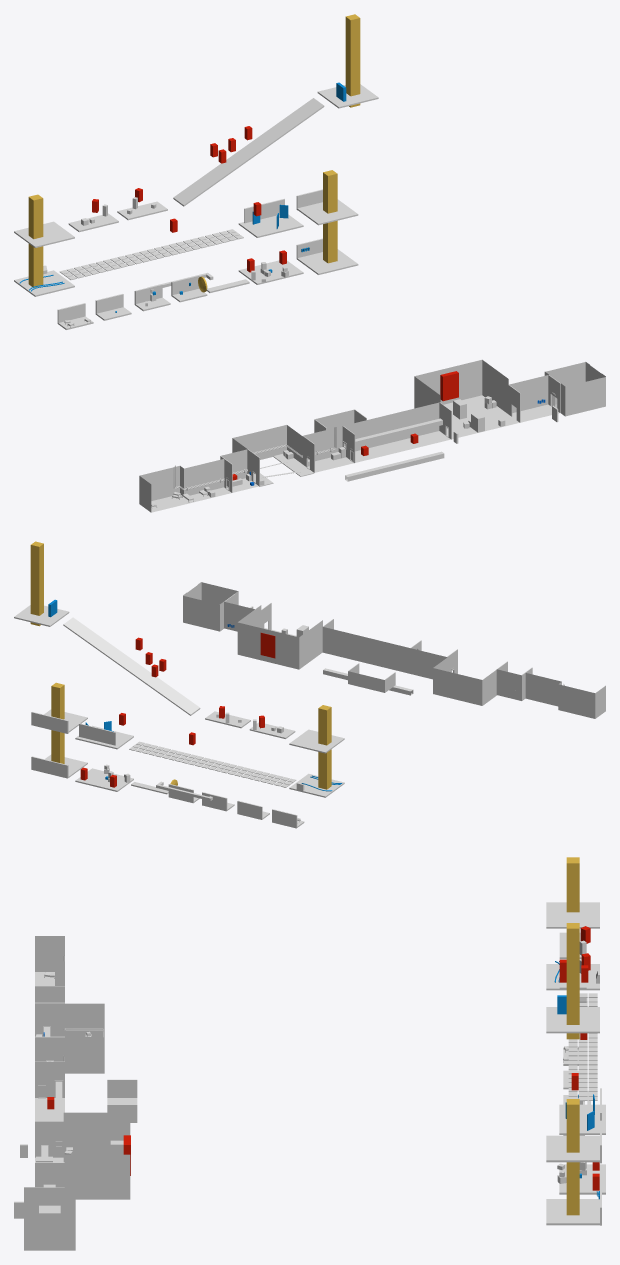
3 views of the same model, one above another, from view 1: azimuth 30°, elevation 25°; view 2: azimuth 150°, elevation 25°; view 3: azimuth 270°, elevation 25° (orthographic). The views are drawn at different scales.
Visible parts, largest first — view 1: Plane.003, Plane.008, Cube.068, Cube.142, Plane.005, Plane.002, Plane, Plane.009, Cube.055, Cube.071, Cube.031, Plane.001 (+13 smaller); view 2: Plane.003, Plane.008, Cube.068, Cube.142, Plane.005, Plane, Cube.055, Plane.002, Cube.071, Cube.031, Plane.001, Plane.007 (+11 smaller); view 3: Plane.008, Plane.003, Plane.005, Cube.142, Cube.071, Cube.031, Cube.032, Cube.030, Cube.056, Plane, Cube.070, Plane.007 (+10 smaller).
Part boxes in pixels (box(x1,y1,x2,y2)): Plane.003: box(302, 402, 451, 472); Plane.008: box(414, 359, 519, 439); Cube.068: box(173, 98, 324, 206); Cube.142: box(544, 362, 605, 416); Plane.005: box(232, 425, 314, 486); Plane.002: box(180, 456, 232, 502); Plane: box(139, 466, 191, 512); Plane.009: box(509, 375, 559, 422); Cube.055: box(28, 194, 43, 287); Cube.071: box(345, 14, 360, 107); Cube.031: box(323, 170, 337, 263); Plane.001: box(221, 449, 259, 492); Plane.003: box(322, 619, 457, 679); Plane.008: box(237, 605, 322, 669); Cube.068: box(63, 617, 200, 715); Cube.142: box(183, 582, 238, 631); Plane.005: box(433, 658, 496, 705); Plane: box(558, 684, 605, 718); Cube.055: box(318, 705, 331, 789); Plane.002: box(521, 667, 561, 706); Cube.071: box(30, 541, 43, 626); Cube.031: box(51, 682, 64, 763); Plane.001: box(496, 661, 521, 700); Plane.007: box(348, 663, 395, 692); Plane.008: box(35, 1112, 130, 1199); Plane.003: box(35, 1036, 64, 1157); Plane.005: box(65, 1003, 104, 1073); Cube.142: box(24, 1187, 75, 1250); Cube.071: box(566, 923, 579, 1039); Cube.031: box(566, 1099, 579, 1215); Cube.032: box(546, 1135, 599, 1162); Cube.030: box(546, 1199, 599, 1225); Cube.056: box(546, 902, 599, 928); Plane: box(35, 936, 64, 985); Cube.070: box(546, 1007, 599, 1033); Plane.007: box(107, 1079, 137, 1122).
Bounding box in the file's own units: 66200 × 37021 × 59562.
